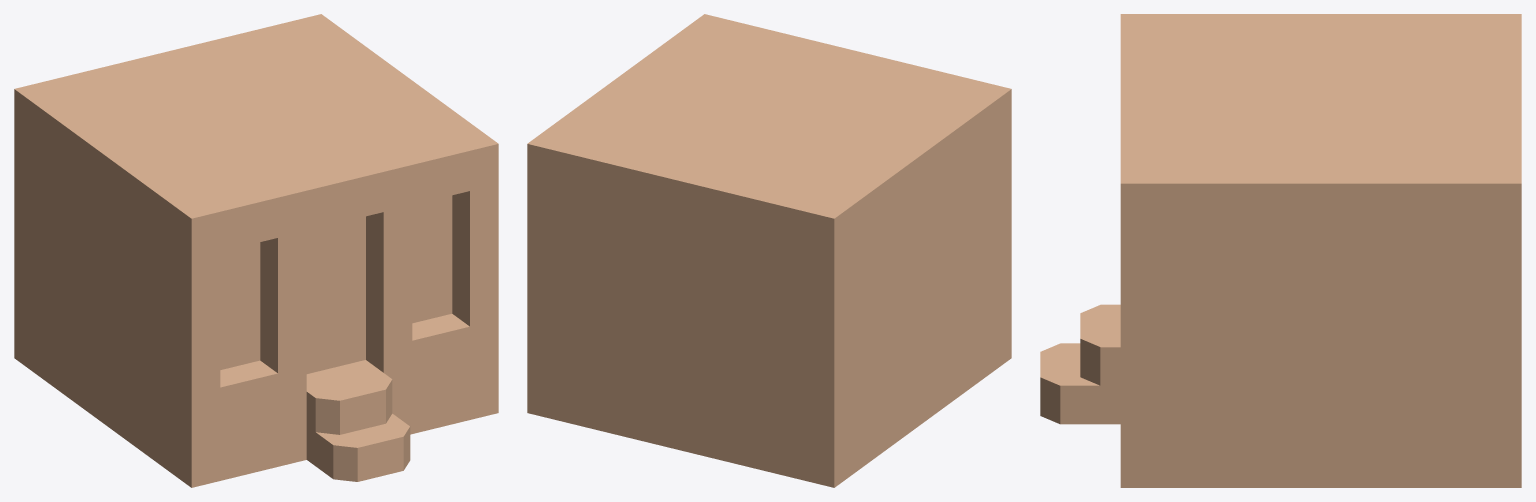
File: building-steps-narrow-windows.obj
The picture shows the model from 3 angles, left to right: view 1: azimuth 30°, elevation 25°; view 2: azimuth 150°, elevation 25°; view 3: azimuth 270°, elevation 25°; orthographic projection. The views are drawn at different scales.
Size of the model in its own units: 1 by 0.8375 by 1.2.
